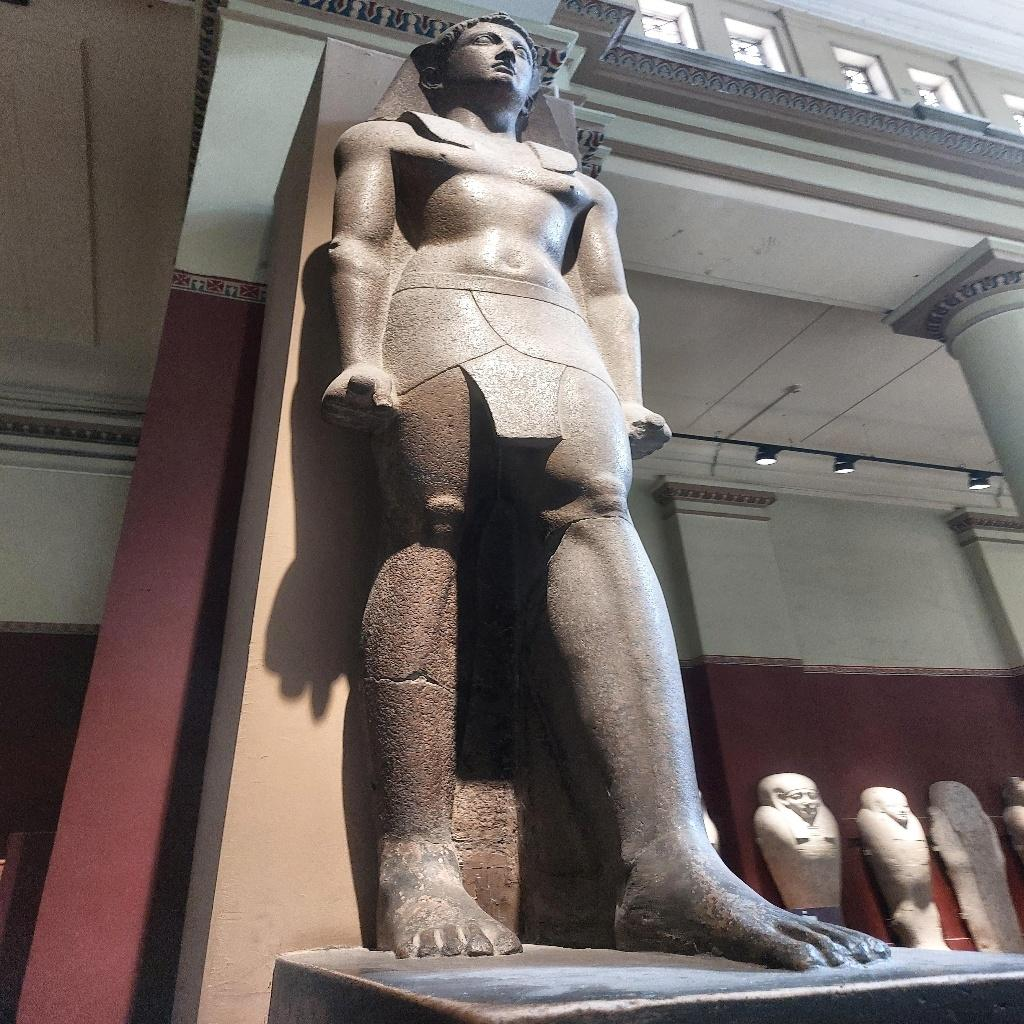Augustus: (318, 12, 892, 972)
